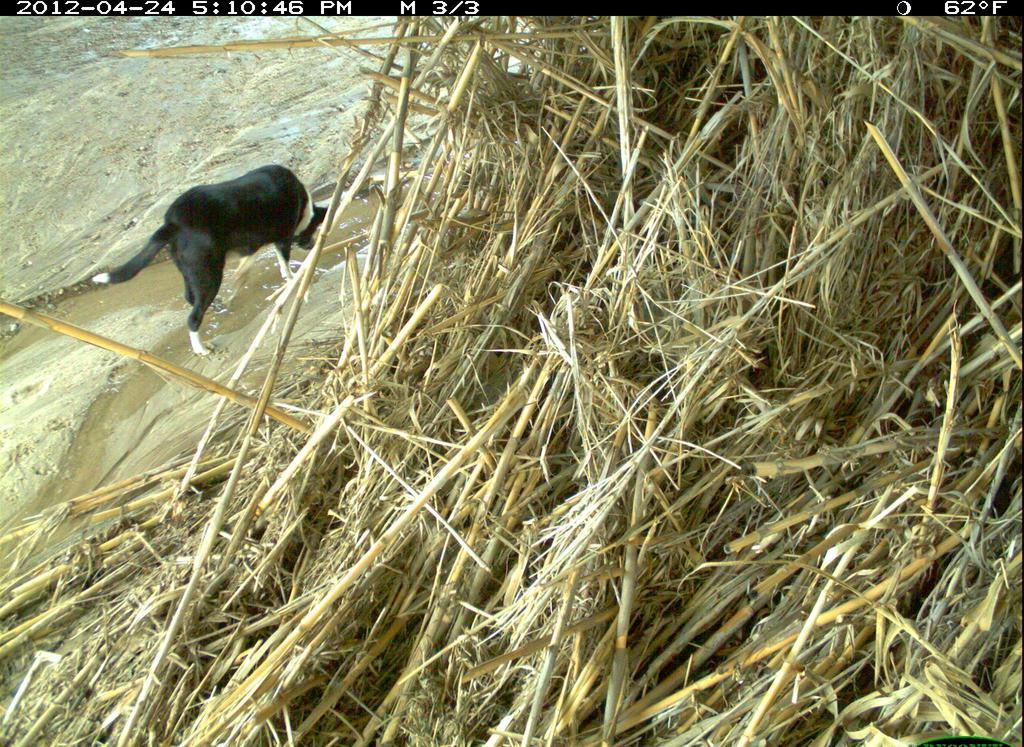dog: (88, 149, 356, 374)
